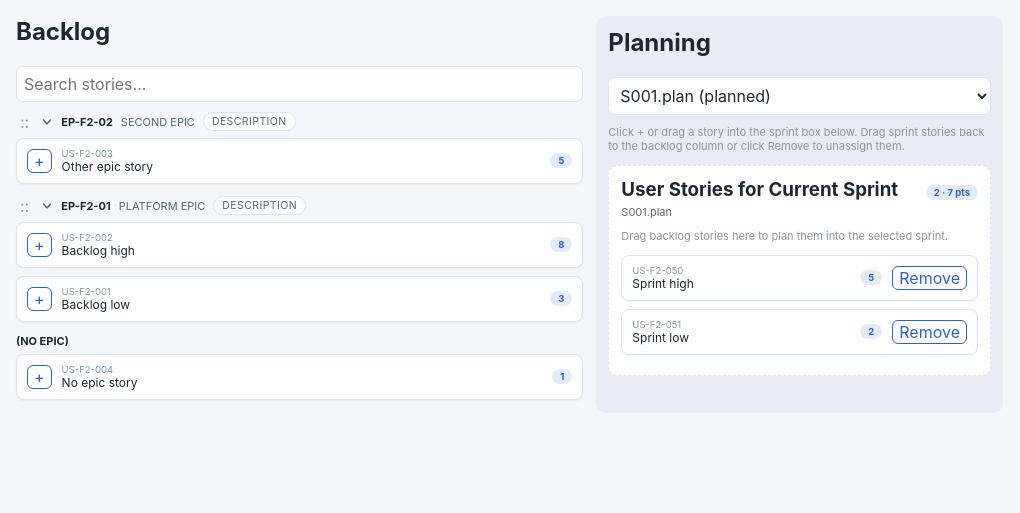
BacklogView › hides an epic when its last remaining story is planned
This screenshot has width=1020, height=513.
Click the button named "add US-F2-002": x=39, y=245 [27, 233, 52, 257]
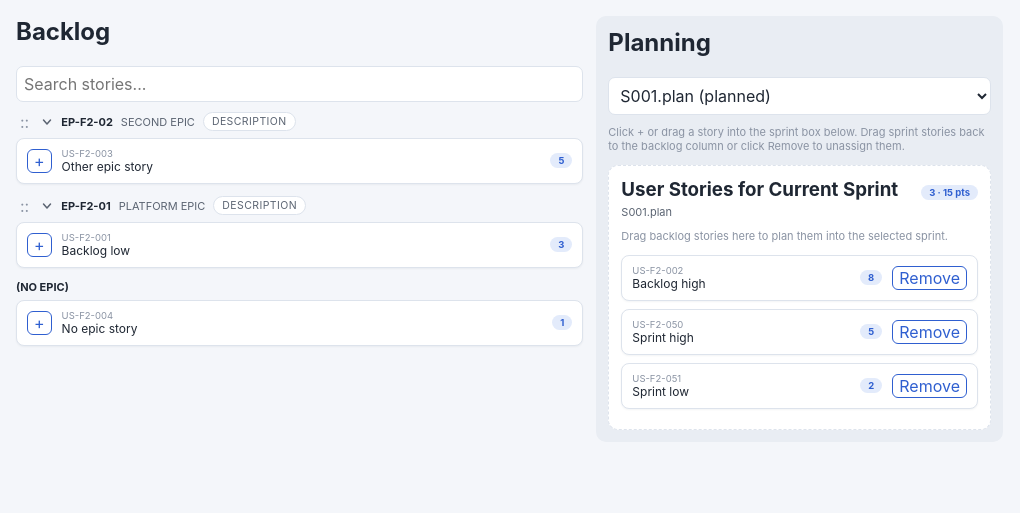
Click the button named "add US-F2-001": x=39, y=245 [27, 233, 52, 257]
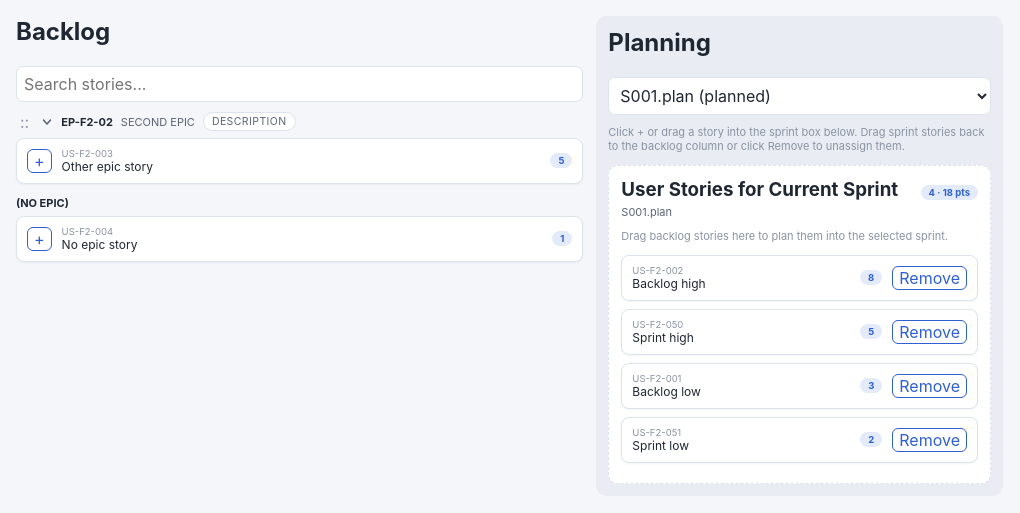
Expected: the element with test id "epic-section-EP-F2-01" is gone
